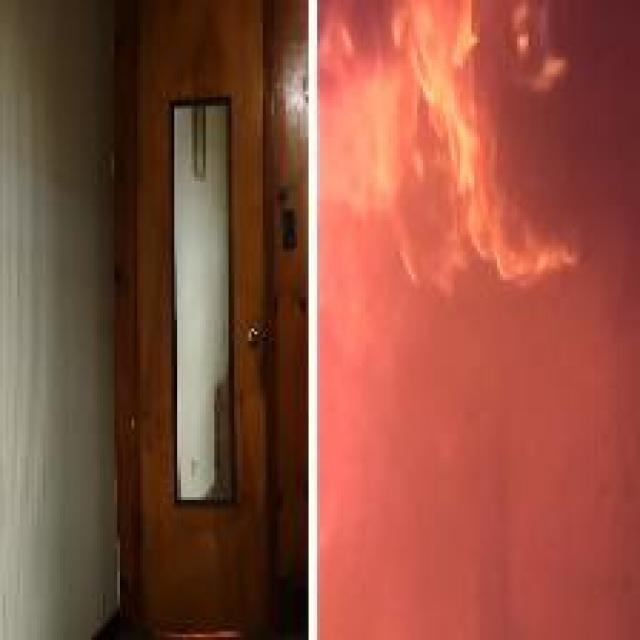Fire: (318, 0, 578, 294)
